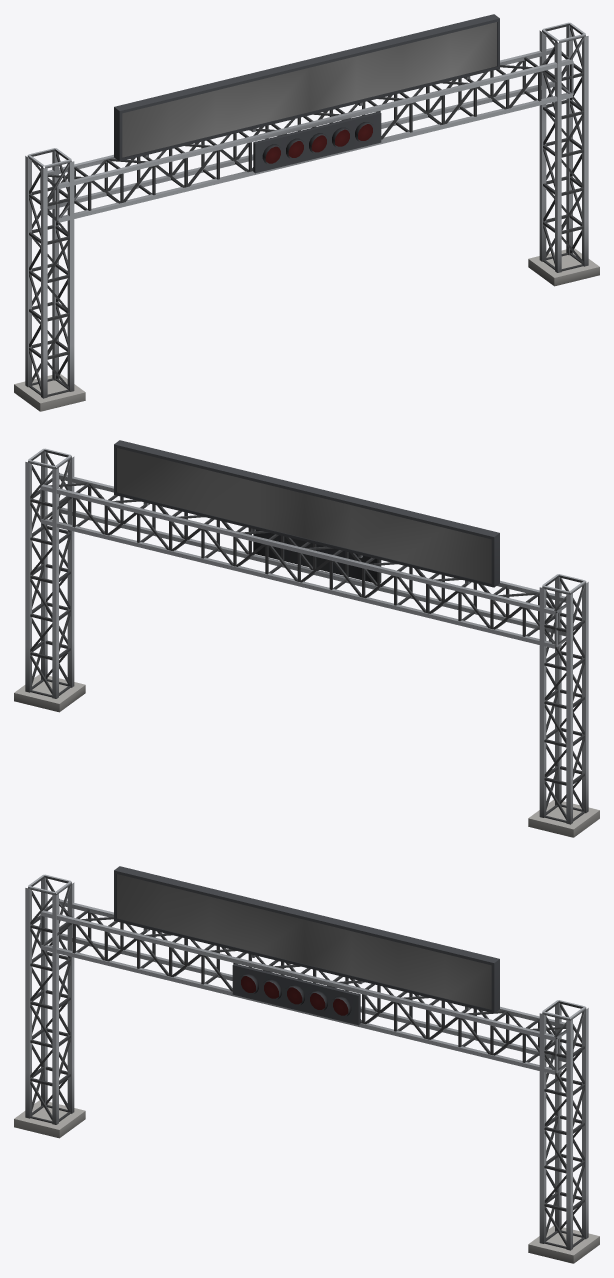
File: gantry.glb
3 renders of one model, top to bottom at view 1: azimuth 30°, elevation 25°; view 2: azimuth 150°, elevation 25°; view 3: azimuth 330°, elevation 25°, orthographic.
Visible parts, largest first — view 1: gantry; view 2: gantry; view 3: gantry.
Part boxes in pixels (left/top/right/bottom): gantry: left=14, top=14, right=599, bottom=411; gantry: left=14, top=440, right=599, bottom=837; gantry: left=14, top=866, right=599, bottom=1263.
Size of the model in its own units: 20.9 by 9.68 by 1.77.
